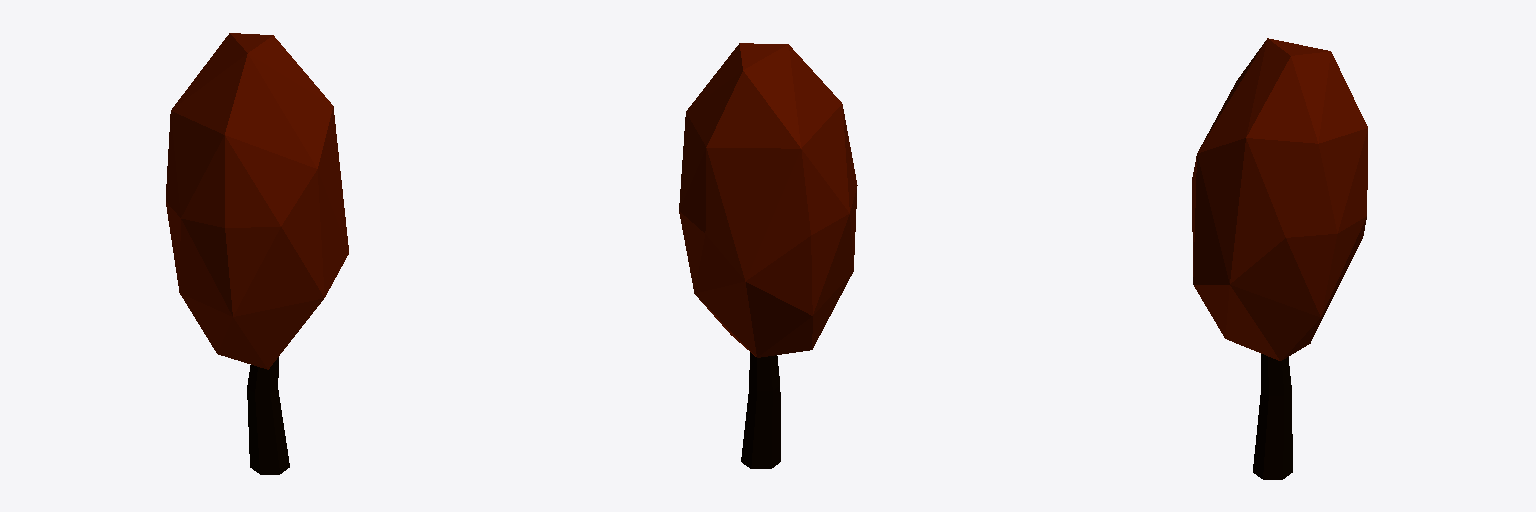
Rendered from tree7.obj.
3 renders of one model, left to right at view 1: azimuth 30°, elevation 25°; view 2: azimuth 150°, elevation 25°; view 3: azimuth 270°, elevation 25°, orthographic.
Parts seen in each view (by area): view 1: Icosphere.005_Icosphere.020, Cylinder.006_Cylinder.013; view 2: Icosphere.005_Icosphere.020, Cylinder.006_Cylinder.013; view 3: Icosphere.005_Icosphere.020, Cylinder.006_Cylinder.013.
Part boxes in pixels (x1,y1,x2,y2): Icosphere.005_Icosphere.020: (166, 33, 348, 369); Cylinder.006_Cylinder.013: (247, 357, 289, 474); Icosphere.005_Icosphere.020: (679, 43, 857, 357); Cylinder.006_Cylinder.013: (741, 352, 780, 468); Icosphere.005_Icosphere.020: (1192, 38, 1367, 360); Cylinder.006_Cylinder.013: (1253, 354, 1292, 479).
Bounding box in the file's own units: 4.35 × 11.18 × 4.23.